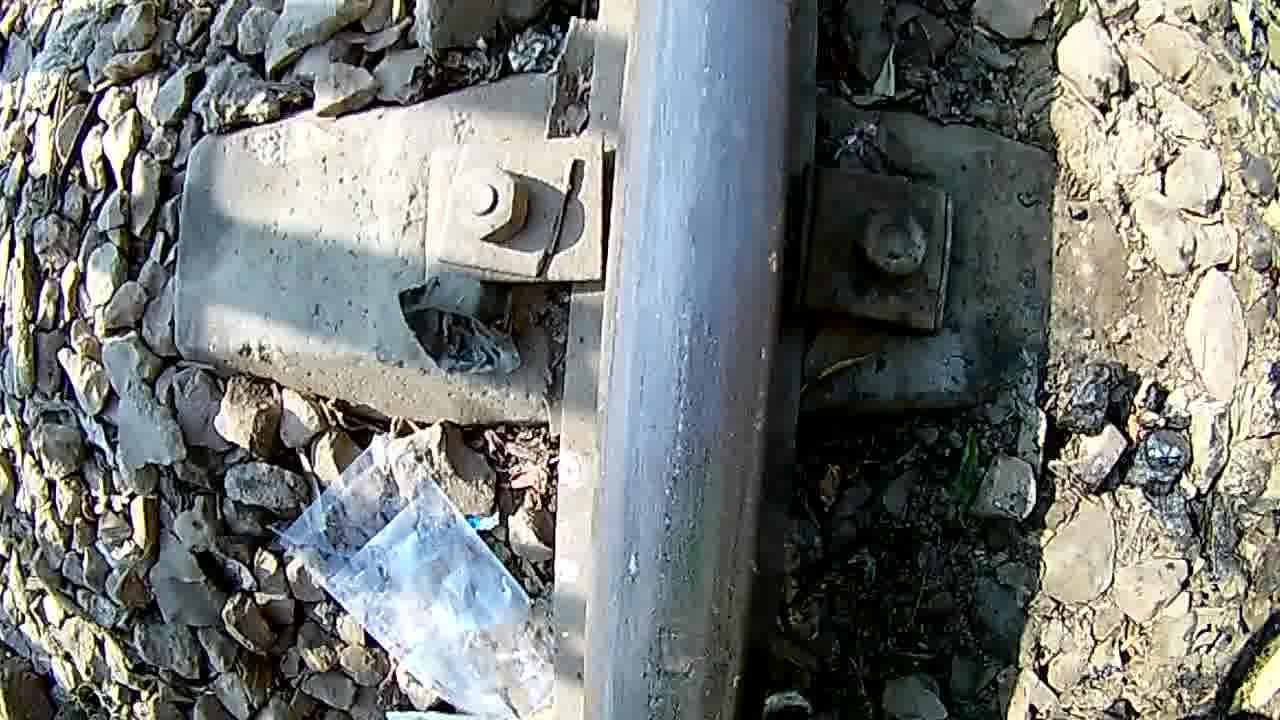crack: (611, 527, 746, 720)
